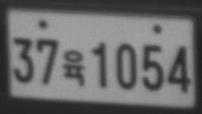0: (114, 43, 138, 90)
1: (90, 41, 110, 88)
3: (12, 36, 35, 84)
4: (166, 45, 191, 93)
5: (142, 45, 164, 92)
7: (36, 37, 59, 84)
육: (60, 49, 87, 86)
